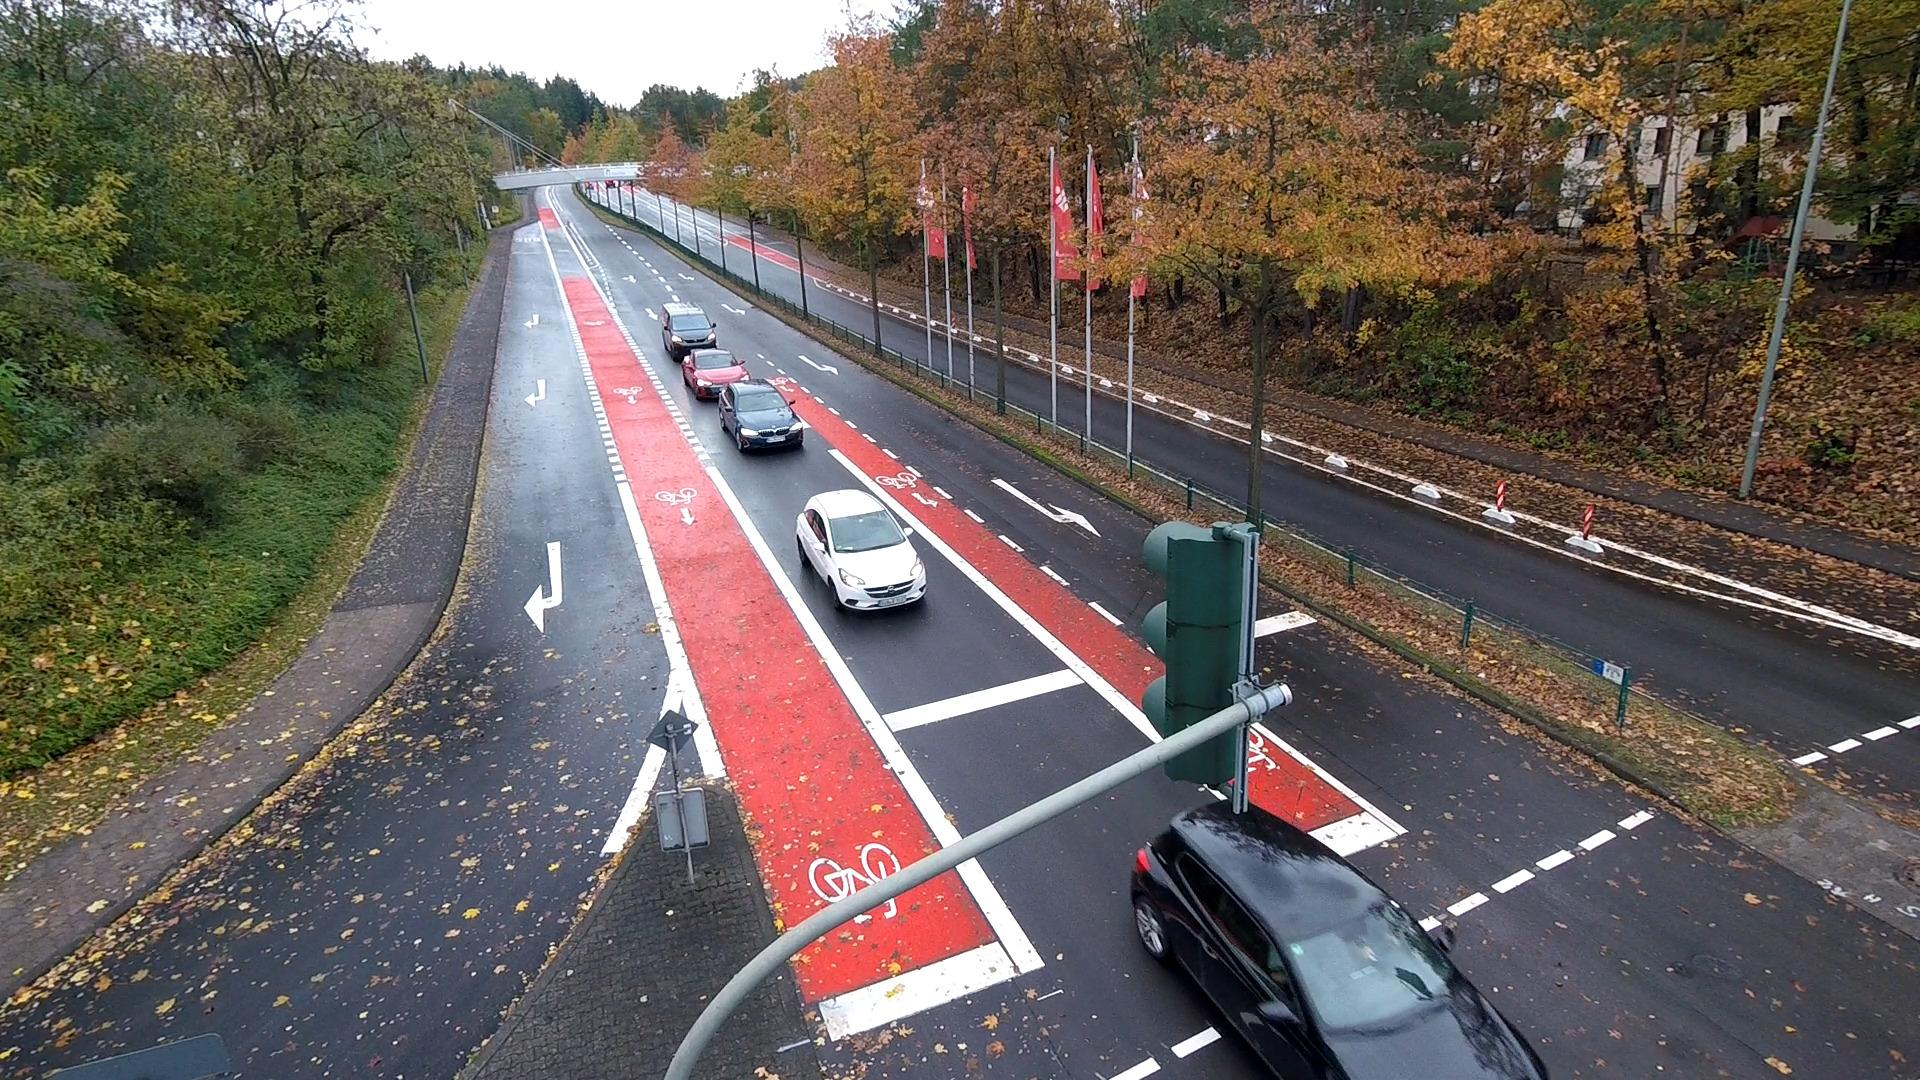bicycle-lane: (535, 185, 961, 940), (738, 349, 1166, 745), (1265, 400, 1920, 638), (781, 855, 1048, 1046), (1242, 727, 1407, 856), (1134, 364, 1253, 426), (803, 258, 873, 302), (753, 241, 802, 273), (1005, 324, 1050, 357), (877, 286, 926, 315), (1091, 347, 1125, 388), (1055, 336, 1088, 371), (972, 316, 998, 339), (725, 229, 752, 252), (633, 191, 661, 210), (698, 216, 720, 239), (951, 307, 968, 334), (678, 208, 695, 225), (930, 302, 944, 320), (661, 202, 675, 216), (622, 185, 632, 194)
car: (1125, 803, 1545, 1080), (795, 492, 926, 612), (720, 382, 803, 450), (683, 348, 746, 401), (659, 303, 716, 360), (605, 181, 617, 187), (585, 182, 595, 190)
car-lane: (0, 228, 674, 1080), (553, 182, 1166, 837), (1258, 451, 1920, 824), (814, 761, 1283, 1080), (785, 855, 1052, 1046), (1131, 402, 1251, 510), (836, 459, 910, 530), (803, 274, 876, 345), (1006, 355, 1055, 422), (881, 307, 928, 369), (757, 253, 804, 310), (1089, 388, 1125, 456), (1056, 373, 1088, 439), (725, 240, 757, 284), (695, 227, 725, 270), (973, 345, 996, 398), (756, 229, 798, 257), (632, 194, 662, 232), (931, 326, 951, 375), (721, 218, 753, 241), (678, 218, 698, 255), (952, 335, 967, 385), (661, 208, 678, 241), (696, 206, 719, 229), (579, 183, 597, 203), (621, 187, 632, 218), (608, 187, 620, 214), (636, 186, 657, 200), (599, 182, 609, 208), (676, 200, 692, 215), (658, 194, 675, 207)
